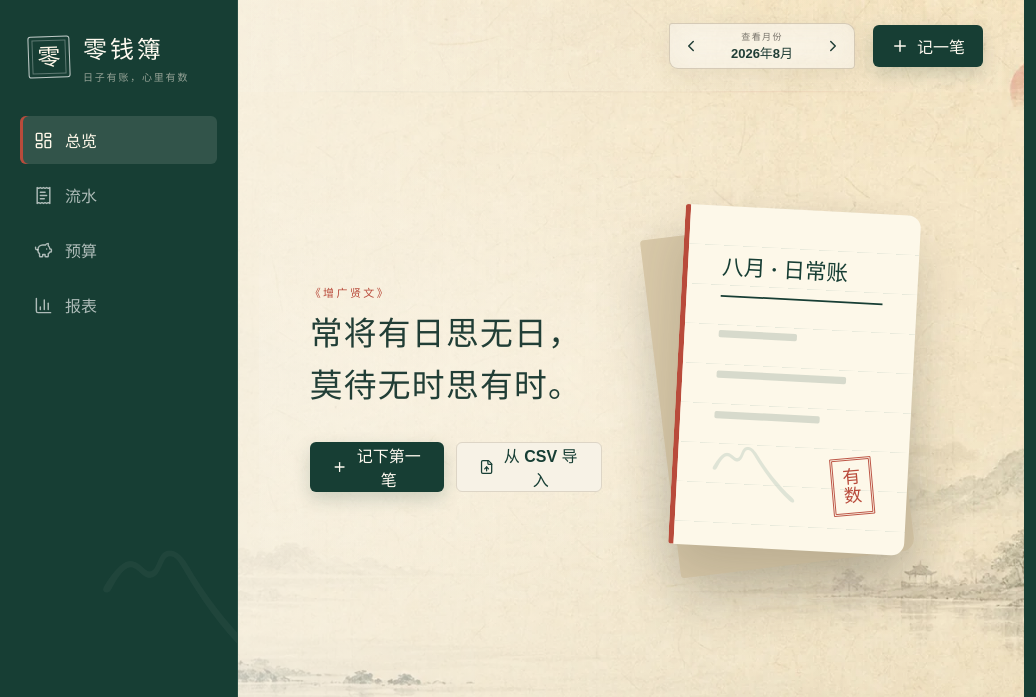
Test: 首次记账流程 › 导航到预算页面并显示内置支出分类
Click the button "预算" at (118, 250), box [20, 226, 217, 274]
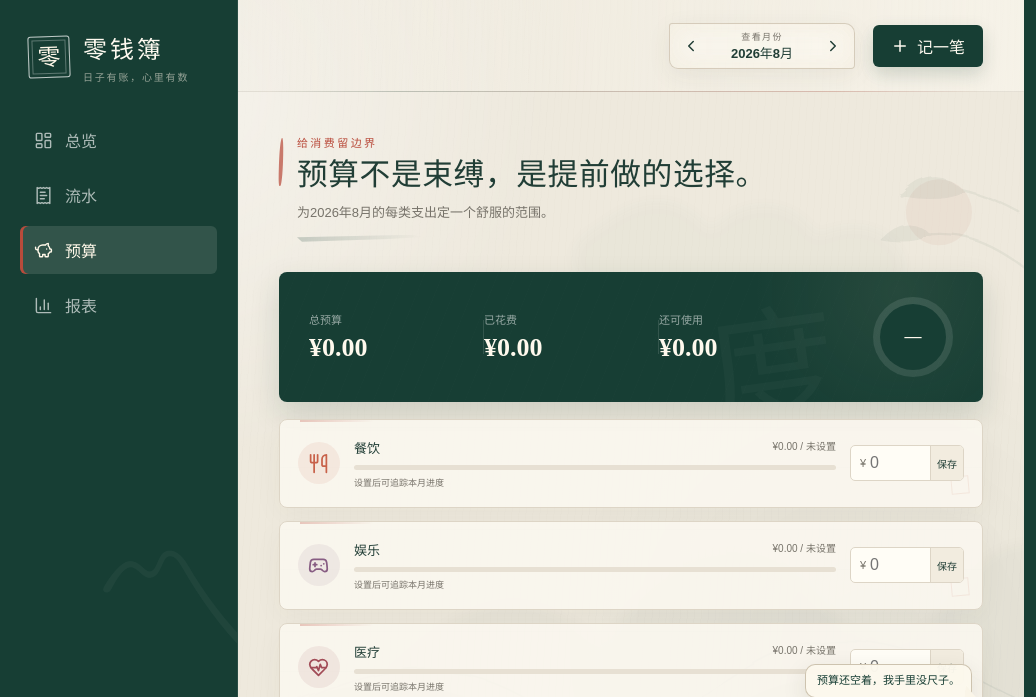
Expected: the heading "预算不是束缚，是提前做的选择。" is shown, [297, 158, 767, 192]
Expected: the text "餐饮" is shown, [354, 438, 380, 457]
